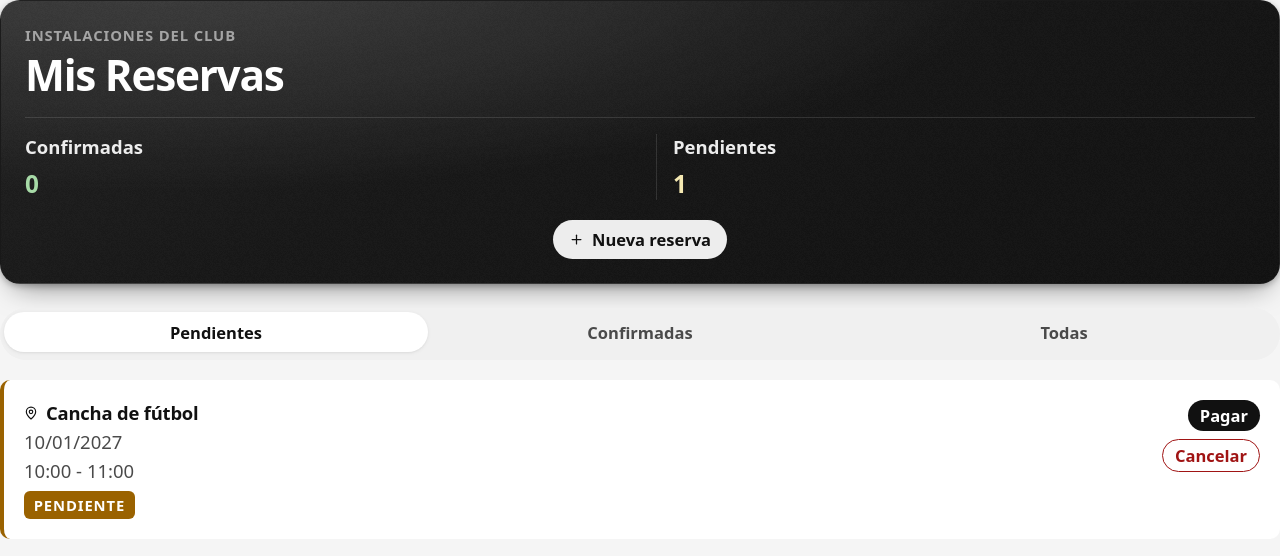
Scenario: ReservasPage › el filtro "Todas" busca el historial y lo muestra
This screenshot has width=1280, height=556.
Expected: the text "Cancha de fútbol" is shown, [24,400,198,425]
What coordinates should you click on to do the following:
click the radio button labelled "Todas"
I would click on:
 (1064, 332)
Its box is [852,312,1276,352].
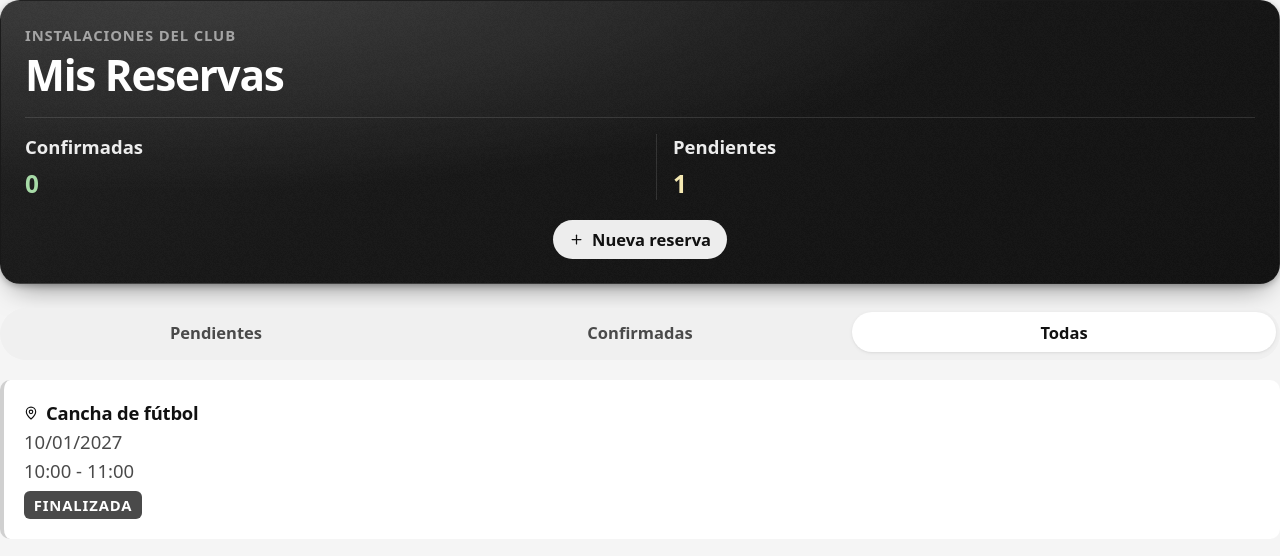
Now the text "Finalizada" is shown, box [24,491,142,519]
